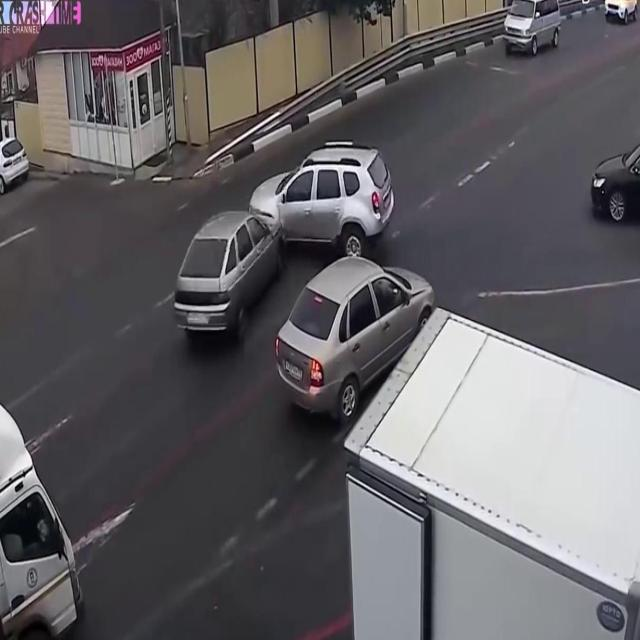accident: (162, 135, 398, 365)
